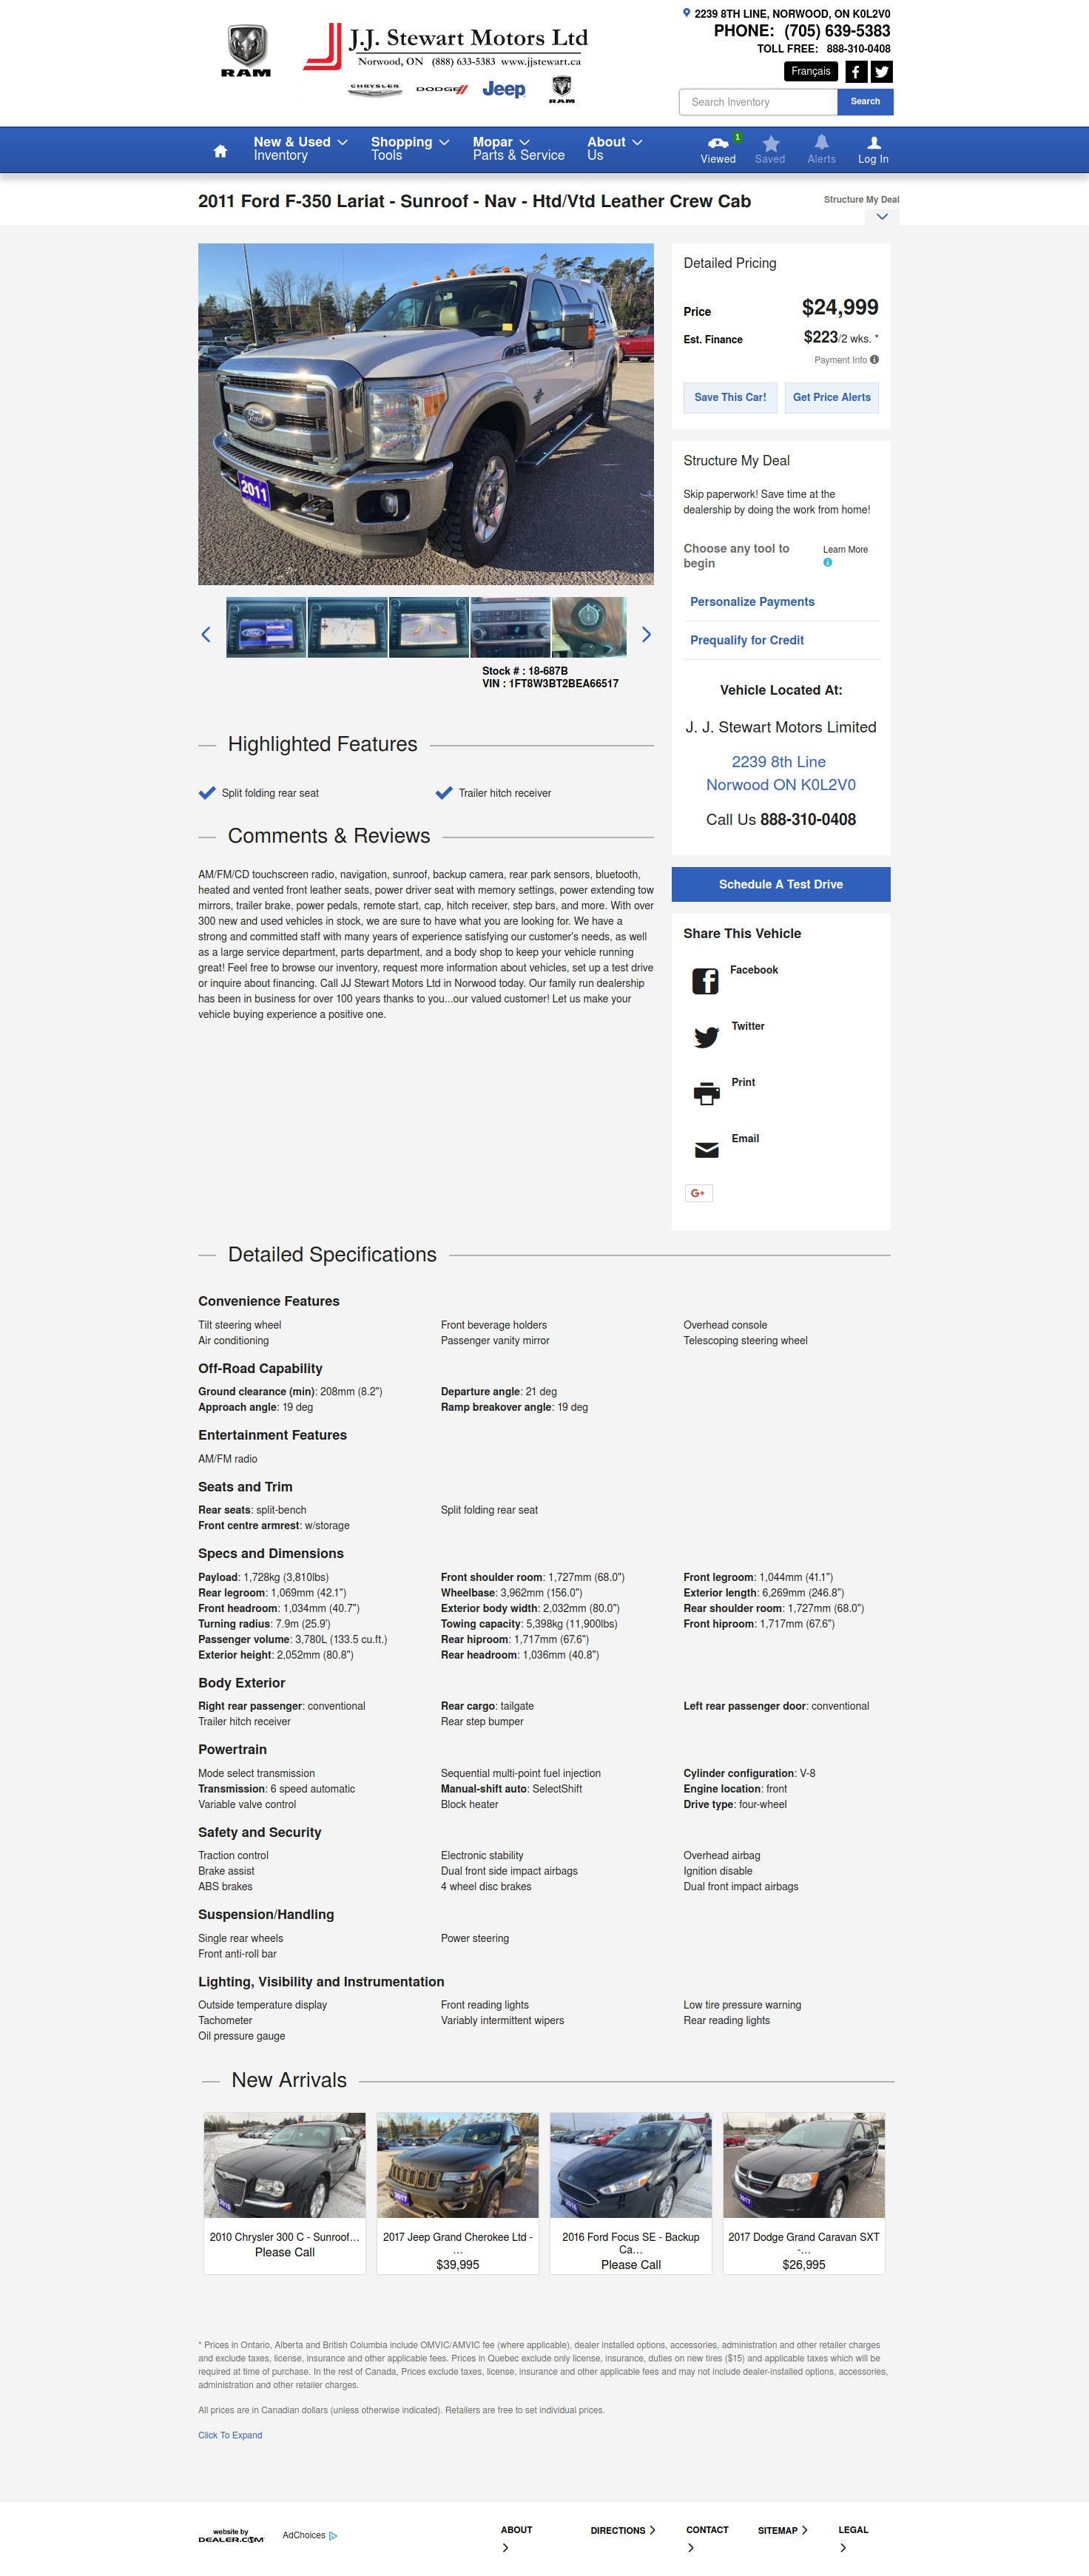car: (642, 626, 654, 644)
